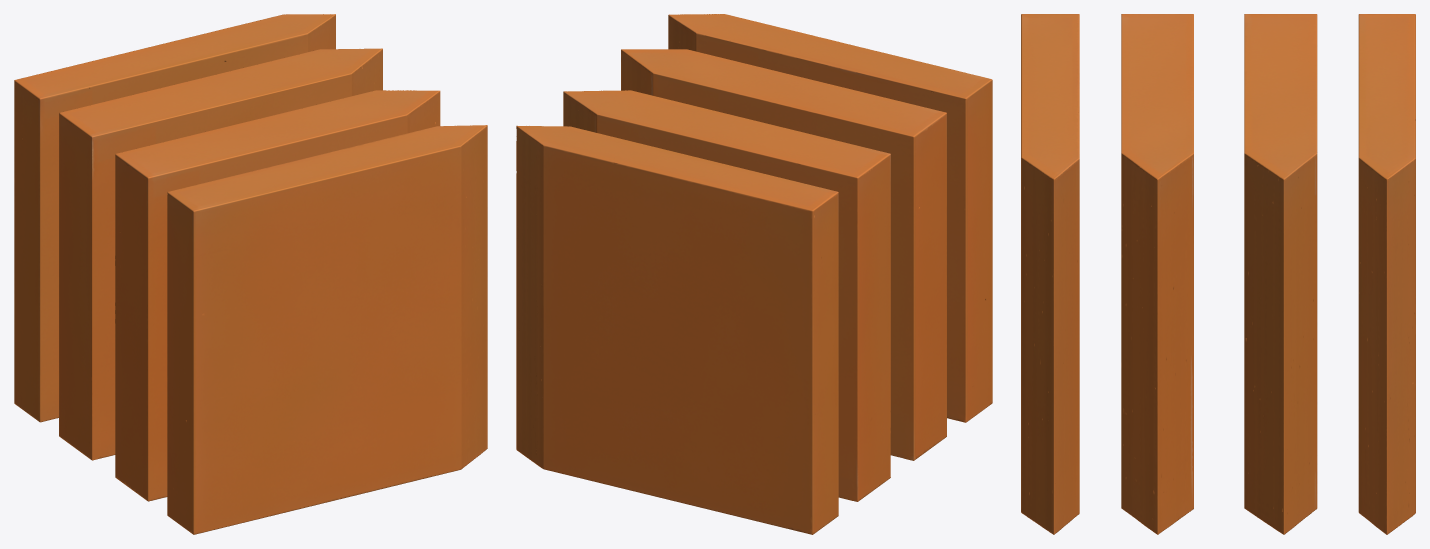
Rendered from aws_ec2.glb.
The picture shows the model from 3 angles, left to right: view 1: azimuth 30°, elevation 25°; view 2: azimuth 150°, elevation 25°; view 3: azimuth 270°, elevation 25°; orthographic projection. The views are drawn at different scales.
Parts seen in each view (by area): view 1: material.001; view 2: material.001; view 3: material.001.
Boxes of the visible parts, left/top/right/bottom form: material.001: left=14, top=14, right=487, bottom=534; material.001: left=516, top=14, right=992, bottom=534; material.001: left=1021, top=14, right=1415, bottom=534.
Size of the model in its own units: 0.6906 by 0.6923 by 0.6953.
Materials: 1 (1 with a texture image).
